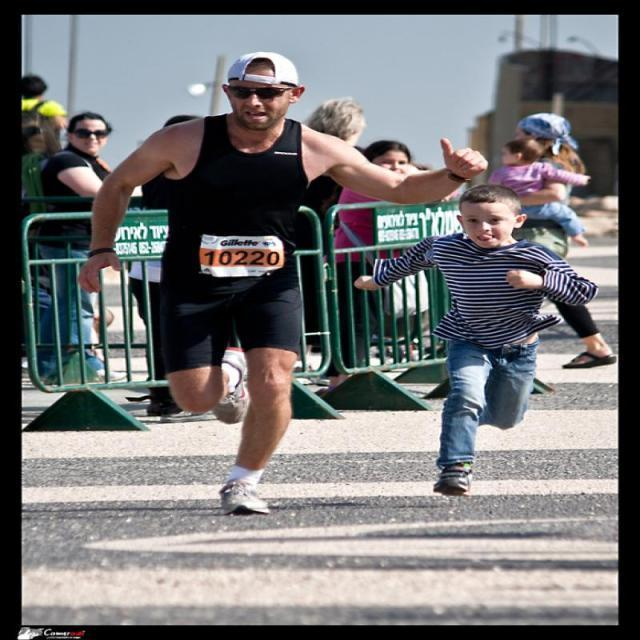dorsal: (190, 224, 298, 286)
